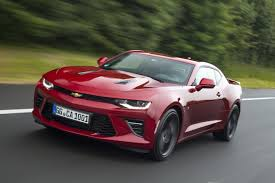sedan: (31, 48, 244, 164)
